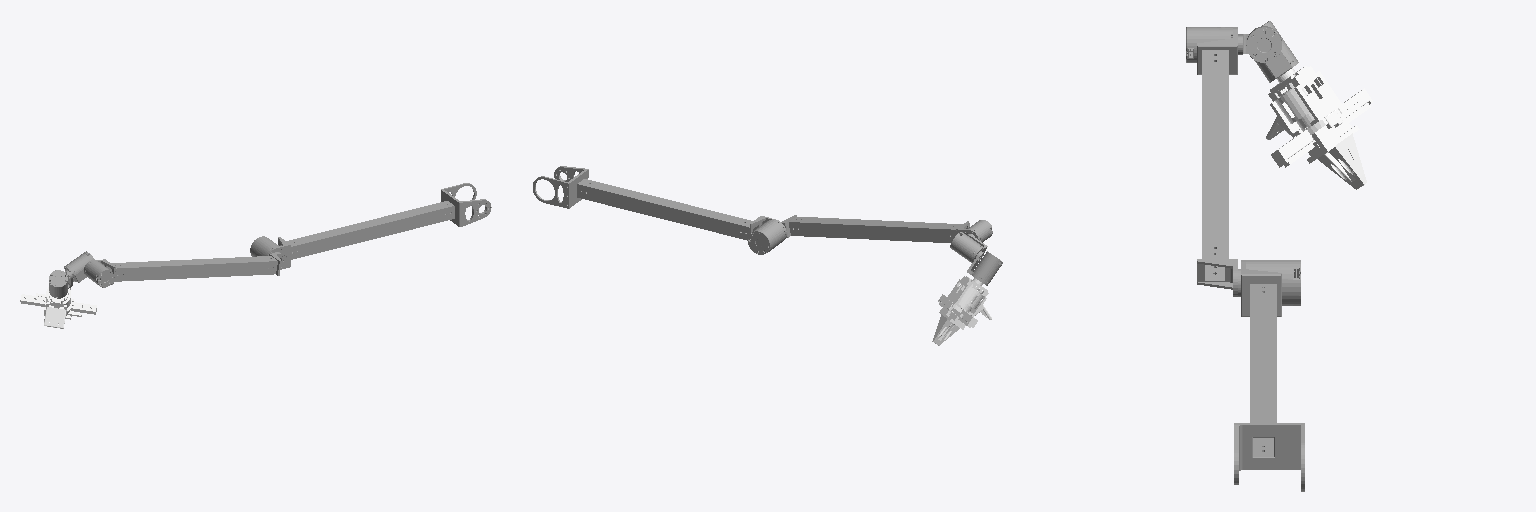
robot.urdf — oldcar111:
<?xml version="1.0" encoding="utf-8" ?>
<!-- This URDF was automatically created by SolidWorks to URDF Exporter! Originally created by Stephen Brawner (brawner@gmail.com) 
     Commit Version: 1.6.0-4-g7f85cfe  Build Version: 1.6.7995.38578
     For more information, please see http://wiki.ros.org/sw_urdf_exporter -->
<robot name="oldcar111">
    <link name="dummy" />
    <joint name="dummy_joint" type="fixed">
        <parent link="dummy" />
        <child link="base_link" />
    </joint>
    <link name="base_link">
        <inertial>
            <origin xyz="1.9442239403214E-06 0.00531069109650709 0.0238395994341592" rpy="0 0 0" />
            <mass value="0.246843411085798" />
            <inertia ixx="0.000192373271361537" ixy="5.22802381723286E-08" ixz="-1.57229969351522E-09" iyy="0.000335809102347398" iyz="-4.46875478080679E-06" izz="0.000304475372386247" />
        </inertial>
        <visual>
            <origin xyz="0 0 0" rpy="0 0 0" />
            <geometry>
                <mesh filename="package://oldcar111/meshes/base_link.STL" />
            </geometry>
            <material name="">
                <color rgba="0.792156862745098 0.819607843137255 0.933333333333333 1" />
            </material>
        </visual>
        <collision>
            <origin xyz="0 0 0" rpy="0 0 0" />
            <geometry>
                <mesh filename="package://oldcar111/meshes/base_link.STL" />
            </geometry>
        </collision>
    </link>
    <link name="link1">
        <inertial>
            <origin xyz="0.00527799246989458 0.00221512748377152 0.288992598715274" rpy="0 0 0" />
            <mass value="0.400617228197227" />
            <inertia ixx="0.00118928752998524" ixy="-1.66580426187447E-07" ixz="-2.17440480522971E-05" iyy="0.00122553902236228" iyz="-7.86734443364385E-06" izz="0.000207836332848072" />
        </inertial>
        <visual>
            <origin xyz="0 0 0" rpy="0 0 0" />
            <geometry>
                <mesh filename="package://oldcar111/meshes/link1.STL" />
            </geometry>
            <material name="">
                <color rgba="0.698039215686274 0.698039215686274 0.698039215686274 1" />
            </material>
        </visual>
        <collision>
            <origin xyz="0 0 0" rpy="0 0 0" />
            <geometry>
                <mesh filename="package://oldcar111/meshes/link1.STL" />
            </geometry>
        </collision>
    </link>
    <joint name="1" type="revolute">
        <origin xyz="0 -0.00419999972019724 0.054" rpy="-1.5707963267949 0 1.57030745170863" />
        <parent link="base_link" />
        <child link="link1" />
        <axis xyz="-1 0 0" />
        <limit lower="-3.14" upper="0" effort="0" velocity="0" />
    </joint>
    <link name="link2">
        <inertial>
            <origin xyz="-0.0289514418738021 -0.0539893815987094 0.285713893552422" rpy="0 0 0" />
            <mass value="0.230744553272649" />
            <inertia ixx="0.00104956541855008" ixy="1.14186722095414E-07" ixz="-5.64519648302555E-07" iyy="0.00102697475255679" iyz="0.000180581630269562" izz="0.000105441049477574" />
        </inertial>
        <visual>
            <origin xyz="0 0 0" rpy="0 0 0" />
            <geometry>
                <mesh filename="package://oldcar111/meshes/link2.STL" />
            </geometry>
            <material name="">
                <color rgba="0.698039215686274 0.698039215686274 0.698039215686274 1" />
            </material>
        </visual>
        <collision>
            <origin xyz="0 0 0" rpy="0 0 0" />
            <geometry>
                <mesh filename="package://oldcar111/meshes/link2.STL" />
            </geometry>
        </collision>
    </link>
    <joint name="2" type="revolute">
        <origin xyz="-0.0190610592148176 0.0037785921272299 0.492983162251151" rpy="0 0 0" />
        <parent link="link1" />
        <child link="link2" />
        <axis xyz="1 0 0" />
        <limit lower="-2.93" upper="2.95" effort="0" velocity="0" />
    </joint>
    <link name="link3">
        <inertial>
            <origin xyz="0.0817348080152344 0.00631043308468887 0.0145304551130211" rpy="0 0 0" />
            <mass value="0.0824529162671332" />
            <inertia ixx="2.52208026875665E-05" ixy="-9.38918528365317E-07" ixz="-2.15162295674946E-06" iyy="2.61838498056079E-05" iyz="-3.55367452857558E-06" izz="1.95380039083763E-05" />
        </inertial>
        <visual>
            <origin xyz="0 0 0" rpy="0 0 0" />
            <geometry>
                <mesh filename="package://oldcar111/meshes/link3.STL" />
            </geometry>
            <material name="">
                <color rgba="0.698039215686274 0.698039215686274 0.698039215686274 1" />
            </material>
        </visual>
        <collision>
            <origin xyz="0 0 0" rpy="0 0 0" />
            <geometry>
                <mesh filename="package://oldcar111/meshes/link3.STL" />
            </geometry>
        </collision>
    </link>
    <joint name="3" type="continuous">
        <origin xyz="-0.0634554958516763 -0.08466955254996 0.44806252567829" rpy="0 0 0" />
        <parent link="link2" />
        <child link="link3" />
        <axis xyz="-1 0 0" />
    </joint>
    <link name="link4">
        <inertial>
            <origin xyz="0.00890807551218276 0.0130884602175348 0.0817401465685984" rpy="0 0 0" />
            <mass value="0.0824529142602831" />
            <inertia ixx="2.46775716865345E-05" ixy="-4.53665204521974E-06" ixz="-1.32319484330853E-06" iyy="2.10766289984127E-05" iyz="-1.92999691209014E-06" izz="2.5188455562489E-05" />
        </inertial>
        <visual>
            <origin xyz="0 0 0" rpy="0 0 0" />
            <geometry>
                <mesh filename="package://oldcar111/meshes/link4.STL" />
            </geometry>
            <material name="">
                <color rgba="0.698039215686274 0.698039215686274 0.698039215686274 1" />
            </material>
        </visual>
        <collision>
            <origin xyz="0 0 0" rpy="0 0 0" />
            <geometry>
                <mesh filename="package://oldcar111/meshes/link4.STL" />
            </geometry>
        </collision>
    </link>
    <joint name="4" type="continuous">
        <origin xyz="0.0867019191362518 -0.00673445031368503 -0.0154894931182463" rpy="-0.40986791242469 -0.000123856296620052 0" />
        <parent link="link3" />
        <child link="link4" />
        <axis xyz="0 0 -1" />
    </joint>
    <link name="link5">
        <inertial>
            <origin xyz="0.105186720073894 0.00235968914936002 -0.0022246606375701" rpy="0 0 0" />
            <mass value="0.174467238698695" />
            <inertia ixx="0.000154343896810332" ixy="-1.98935759843775E-06" ixz="1.86240133131484E-06" iyy="0.000103856592098492" iyz="-3.22519277835911E-05" izz="9.91083108892448E-05" />
        </inertial>
        <visual>
            <origin xyz="0 0 0" rpy="0 0 0" />
            <geometry>
                <mesh filename="package://oldcar111/meshes/link5.STL" />
            </geometry>
            <material name="">
                <color rgba="1 1 1 1" />
            </material>
        </visual>
        <collision>
            <origin xyz="0 0 0" rpy="0 0 0" />
            <geometry>
                <mesh filename="package://oldcar111/meshes/link5.STL" />
            </geometry>
        </collision>
    </link>
    <joint name="5" type="continuous">
        <origin xyz="-0.00950565079420626 -0.0139732817540251 0.0866999999999829" rpy="1.5703914601342 0 0.973432793021899" />
        <parent link="link4" />
        <child link="link5" />
        <axis xyz="-1 0 0" />
    </joint>
    <link name="linkzhua1">
        <inertial>
            <origin xyz="-0.00450736179791811 -0.000673663938952296 0.00380318250475943" rpy="0 0 0" />
            <mass value="0.0276498547531941" />
            <inertia ixx="6.62112429571255E-06" ixy="1.23049107146354E-07" ixz="5.68457369224247E-07" iyy="7.500189084869E-06" iyz="-1.12447985360647E-06" izz="7.54576526882826E-06" />
        </inertial>
        <visual>
            <origin xyz="0 0 0" rpy="0 0 0" />
            <geometry>
                <mesh filename="package://oldcar111/meshes/linkzhua1.STL" />
            </geometry>
            <material name="">
                <color rgba="1 1 1 1" />
            </material>
        </visual>
        <collision>
            <origin xyz="0 0 0" rpy="0 0 0" />
            <geometry>
                <mesh filename="package://oldcar111/meshes/linkzhua1.STL" />
            </geometry>
        </collision>
    </link>
    <joint name="zhua1" type="prismatic">
        <origin xyz="0.155699999999986 0.00826760283319106 0.00912539690176883" rpy="2.27424838462147 -0.821045734463187 1.57079632679491" />
        <parent link="link5" />
        <child link="linkzhua1" />
        <axis xyz="-1 0 0" />
        <limit lower="-0.06" upper="0" effort="0" velocity="0" />
    </joint>
    <link name="linkzhua2">
        <inertial>
            <origin xyz="0.00123526659265605 0.00575362909473481 -0.000479857152509387" rpy="0 0 0" />
            <mass value="0.0276496025259502" />
            <inertia ixx="7.69978326990058E-06" ixy="-8.08090839029367E-07" ixz="4.82144588161451E-07" iyy="6.78857023532845E-06" iyz="-8.83092307840954E-07" izz="7.17860180138716E-06" />
        </inertial>
        <visual>
            <origin xyz="0 0 0" rpy="0 0 0" />
            <geometry>
                <mesh filename="package://oldcar111/meshes/linkzhua2.STL" />
            </geometry>
            <material name="">
                <color rgba="1 1 1 1" />
            </material>
        </visual>
        <collision>
            <origin xyz="0 0 0" rpy="0 0 0" />
            <geometry>
                <mesh filename="package://oldcar111/meshes/linkzhua2.STL" />
            </geometry>
        </collision>
    </link>
    <joint name="zhua2" type="prismatic">
        <origin xyz="0.155700001466271 -0.00839043372952131 -0.00901101641300339" rpy="2.12843991961849 -0.226127160063763 1.91590207174177" />
        <parent link="link5" />
        <child link="linkzhua2" />
        <axis xyz="0.789038133883824 0.605176450061446 -0.105736878940877" />
        <limit lower="-0.06" upper="0" effort="0" velocity="0" />
    </joint>
    <transmission name="trans_1">
        <type>transmission_interface/SimpleTransmission</type>
        <joint name="1">
            <hardwareInterface>hardware_interface/EffortJointInterface</hardwareInterface>
        </joint>
        <actuator name="1_motor">
            <hardwareInterface>hardware_interface/EffortJointInterface</hardwareInterface>
            <mechanicalReduction>1</mechanicalReduction>
        </actuator>
    </transmission>
    <transmission name="trans_2">
        <type>transmission_interface/SimpleTransmission</type>
        <joint name="2">
            <hardwareInterface>hardware_interface/EffortJointInterface</hardwareInterface>
        </joint>
        <actuator name="2_motor">
            <hardwareInterface>hardware_interface/EffortJointInterface</hardwareInterface>
            <mechanicalReduction>1</mechanicalReduction>
        </actuator>
    </transmission>
    <transmission name="trans_3">
        <type>transmission_interface/SimpleTransmission</type>
        <joint name="3">
            <hardwareInterface>hardware_interface/EffortJointInterface</hardwareInterface>
        </joint>
        <actuator name="3_motor">
            <hardwareInterface>hardware_interface/EffortJointInterface</hardwareInterface>
            <mechanicalReduction>1</mechanicalReduction>
        </actuator>
    </transmission>
    <transmission name="trans_4">
        <type>transmission_interface/SimpleTransmission</type>
        <joint name="4">
            <hardwareInterface>hardware_interface/EffortJointInterface</hardwareInterface>
        </joint>
        <actuator name="4_motor">
            <hardwareInterface>hardware_interface/EffortJointInterface</hardwareInterface>
            <mechanicalReduction>1</mechanicalReduction>
        </actuator>
    </transmission>
    <transmission name="trans_5">
        <type>transmission_interface/SimpleTransmission</type>
        <joint name="5">
            <hardwareInterface>hardware_interface/EffortJointInterface</hardwareInterface>
        </joint>
        <actuator name="5_motor">
            <hardwareInterface>hardware_interface/EffortJointInterface</hardwareInterface>
            <mechanicalReduction>1</mechanicalReduction>
        </actuator>
    </transmission>
    <transmission name="trans_zhua1">
        <type>transmission_interface/SimpleTransmission</type>
        <joint name="zhua1">
            <hardwareInterface>hardware_interface/EffortJointInterface</hardwareInterface>
        </joint>
        <actuator name="zhua1_motor">
            <hardwareInterface>hardware_interface/EffortJointInterface</hardwareInterface>
            <mechanicalReduction>1</mechanicalReduction>
        </actuator>
    </transmission>
    <transmission name="trans_zhua2">
        <type>transmission_interface/SimpleTransmission</type>
        <joint name="zhua2">
            <hardwareInterface>hardware_interface/EffortJointInterface</hardwareInterface>
        </joint>
        <actuator name="zhua2_motor">
            <hardwareInterface>hardware_interface/EffortJointInterface</hardwareInterface>
            <mechanicalReduction>1</mechanicalReduction>
        </actuator>
    </transmission>
    <gazebo>
        <plugin name="gazebo_ros_control" filename="libgazebo_ros_control.so">
            <robotNamespace>/</robotNamespace>
        </plugin>
    </gazebo>
</robot>

--- Facts derived from the render (not from the file) ---
The picture shows the robot from 3 angles, left to right: view 1: azimuth 30°, elevation 25°; view 2: azimuth 150°, elevation 25°; view 3: azimuth 270°, elevation 25°; orthographic projection.
Model oldcar111 with 9 links and 8 joints (2 revolute, 3 continuous, 2 prismatic, 1 fixed), rooted at dummy, posed every joint at zero.
Links seen in each view (by area): view 1: link1, link2, link5, link4; view 2: link1, link2, link5, link4, link3; view 3: link1, link2, link5, linkzhua2, link3, link4, linkzhua1.
Boxes of the visible links, left/top/right/bottom form: link1: left=250, top=183, right=491, bottom=269; link2: left=84, top=252, right=285, bottom=287; link5: left=20, top=287, right=96, bottom=328; link4: left=49, top=270, right=72, bottom=298; link1: left=533, top=166, right=786, bottom=254; link2: left=781, top=215, right=992, bottom=242; link5: left=938, top=276, right=991, bottom=327; link4: left=967, top=251, right=1002, bottom=285; link3: left=950, top=232, right=987, bottom=262; link1: left=1234, top=260, right=1304, bottom=491; link2: left=1186, top=27, right=1240, bottom=296; link5: left=1266, top=66, right=1372, bottom=167; linkzhua2: left=1307, top=102, right=1365, bottom=189; link3: left=1238, top=26, right=1281, bottom=62; link4: left=1254, top=21, right=1298, bottom=82; linkzhua1: left=1312, top=120, right=1366, bottom=182.
Size in the robot's own frame: 1.07 by 0.2094 by 0.2045 metres.
Meshes: 8 distinct files referenced, 7 mesh visuals loaded (7 binary STL); not drawn: 1 (reference not matched to a file when rendering).
